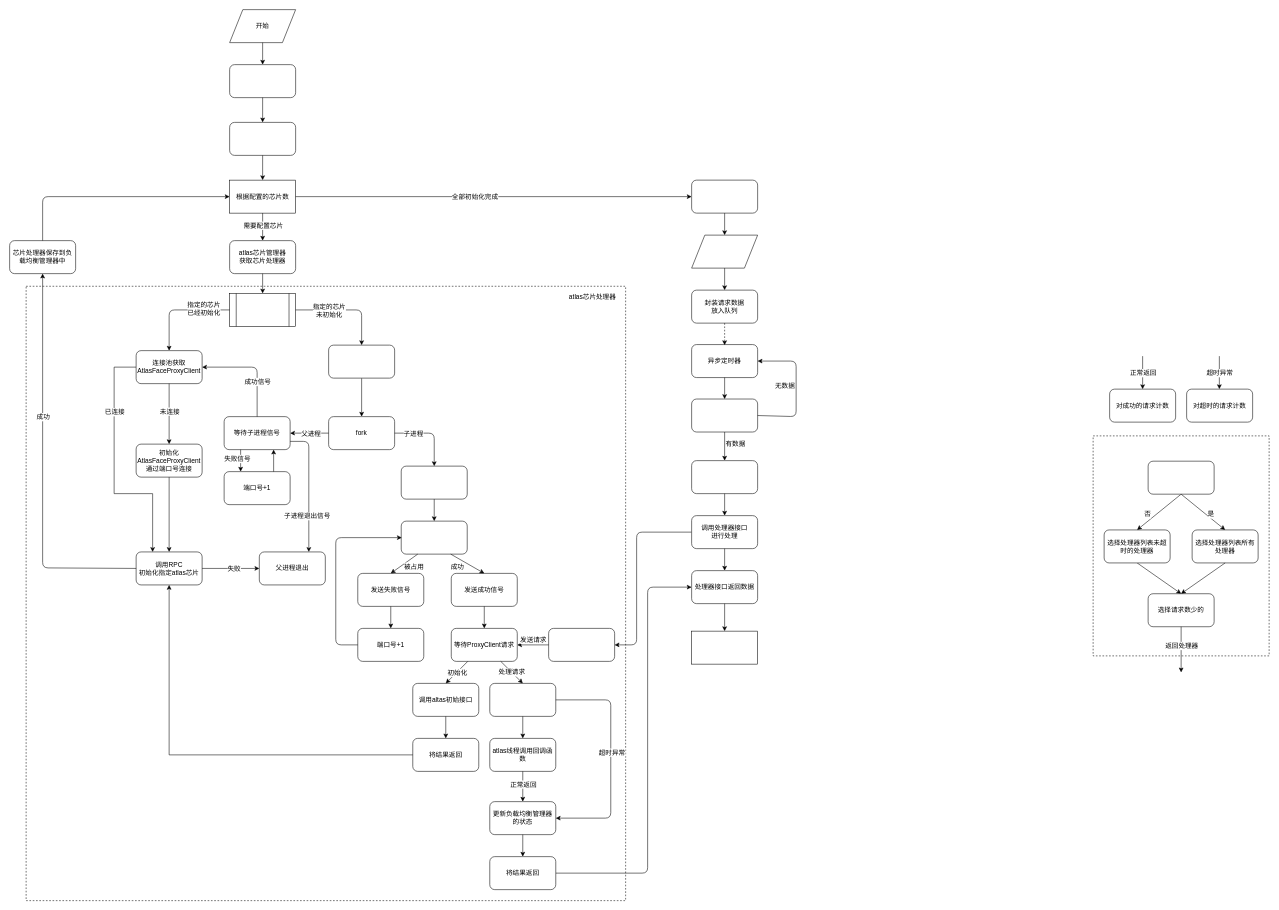
This 1279x910 diagram has some shape labels left out. Here are the shapes that lost their labels. From the top down, the centre of each, then its label:
pixel 262 81: 初始化日志
pixel 262 138: 加载config.json配置
pixel 724 196: 初始化服务 等待连接
pixel 724 251: 接受请求
pixel 262 309: Init接口
pixel 361 361: 选择端口
pixel 724 415: 从队列取出请求 组成batch
pixel 434 482: 初始化 AtlasFaceProxyServer
pixel 724 477: 从负载均衡管理器中获取合适的处理器
pixel 1181 477: 全部超时
pixel 434 537: 开始监听端口
pixel 581 644: 处理器的连接池中 获取连接
pixel 724 647: 返回给客户端
pixel 522 699: batch数据到指定的atlas芯片接口处理
